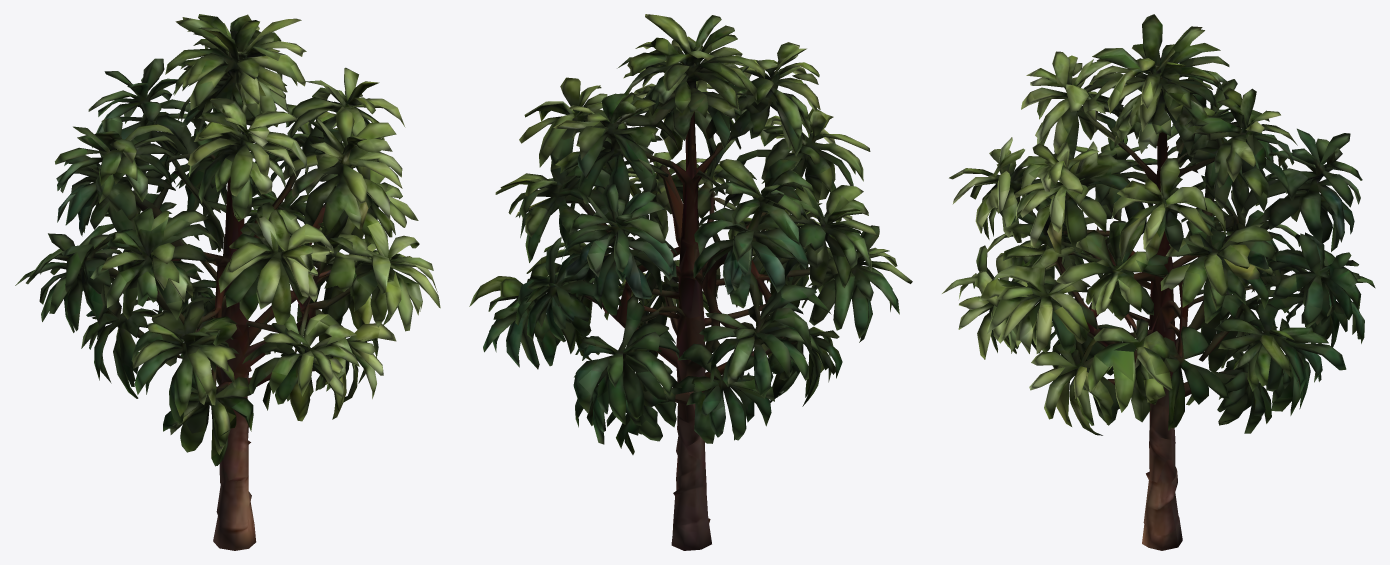
File: mango-near.glb
The picture shows the model from 3 angles, left to right: view 1: azimuth 30°, elevation 25°; view 2: azimuth 150°, elevation 25°; view 3: azimuth 270°, elevation 25°; orthographic projection. The views are drawn at different scales.
Visible parts, largest first — view 1: tripo_node_16ceefdb; view 2: tripo_node_16ceefdb; view 3: tripo_node_16ceefdb.
Boxes of the visible parts, <box> form: tripo_node_16ceefdb: <box>15,14,440,550</box>; tripo_node_16ceefdb: <box>469,14,912,550</box>; tripo_node_16ceefdb: <box>942,14,1375,550</box>.
Bounding box in the file's own units: 7.63 × 11.5 × 8.9.
Materials: 1 (1 with a texture image).
